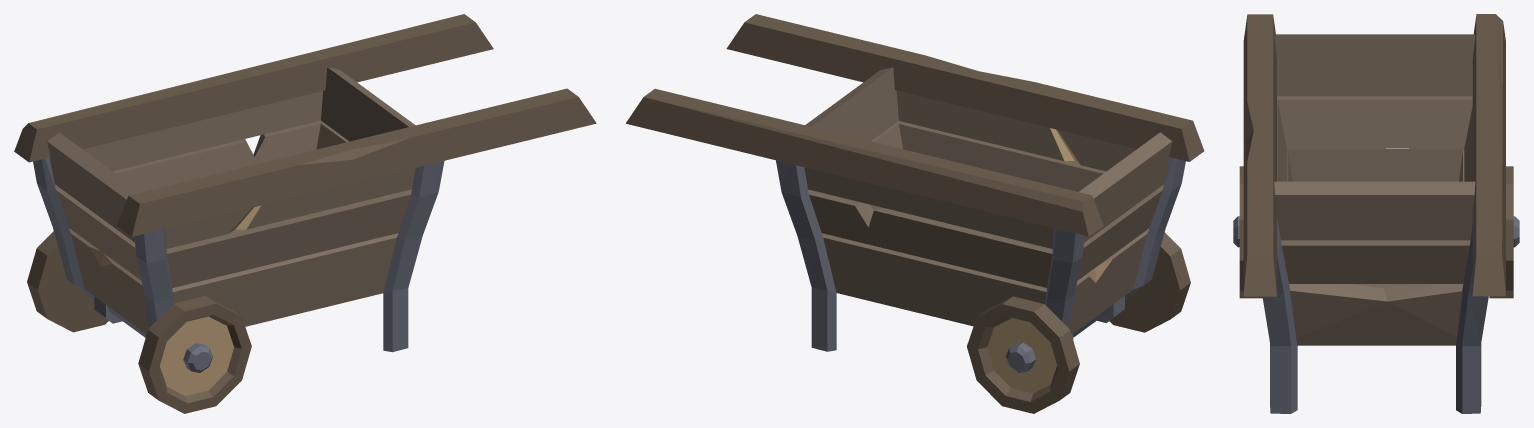
The model's file is _wheelbarrow_empty.fbx.
3 renders of one model, left to right at view 1: azimuth 30°, elevation 25°; view 2: azimuth 150°, elevation 25°; view 3: azimuth 270°, elevation 25°, orthographic. The views are drawn at different scales.
Visible parts, largest first — view 1: wheelbarrow_empty; view 2: wheelbarrow_empty; view 3: wheelbarrow_empty.
Boxes of the visible parts, bbox=[...] form: wheelbarrow_empty: bbox=[14, 14, 596, 413]; wheelbarrow_empty: bbox=[625, 14, 1204, 413]; wheelbarrow_empty: bbox=[1233, 14, 1519, 413].
Bounding box in the file's own units: 187 × 84.33 × 88.67.
